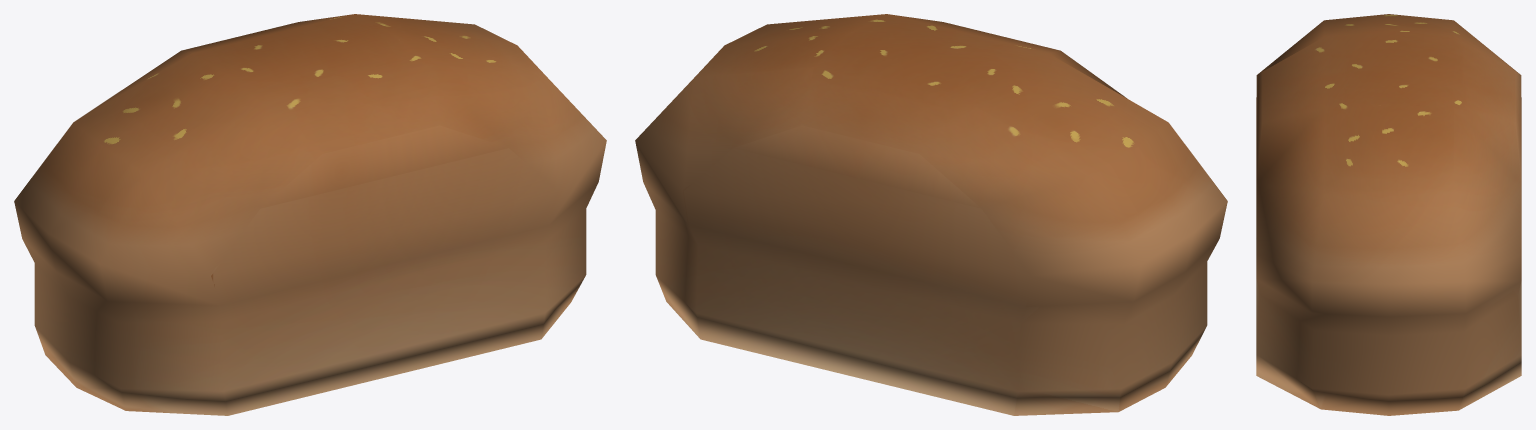
File: bread.fbx
The picture shows the model from 3 angles, left to right: view 1: azimuth 30°, elevation 25°; view 2: azimuth 150°, elevation 25°; view 3: azimuth 270°, elevation 25°; orthographic projection. The views are drawn at different scales.
Visible parts, largest first — view 1: bread; view 2: bread; view 3: bread.
Boxes of the visible parts, <box> form: bread: <box>14,14,606,415</box>; bread: <box>635,14,1227,415</box>; bread: <box>1256,14,1521,415</box>.
Bounding box in the file's own units: 56.11 × 28.13 × 27.49.
Materials: 1 (1 with a texture image).
